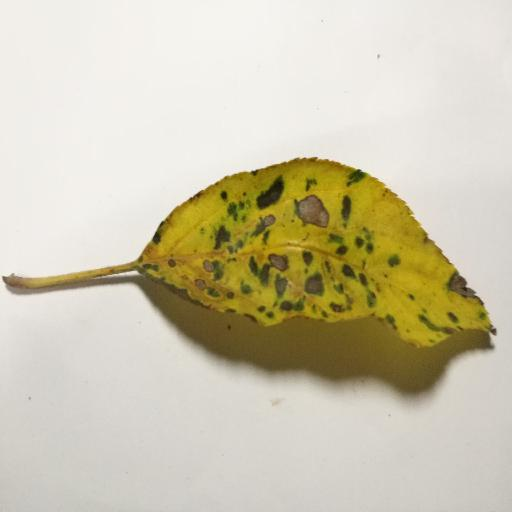Brown_Spot: (173, 258, 220, 304), (298, 254, 332, 305), (260, 251, 289, 305), (298, 197, 337, 232), (437, 270, 477, 298), (250, 209, 272, 231)
